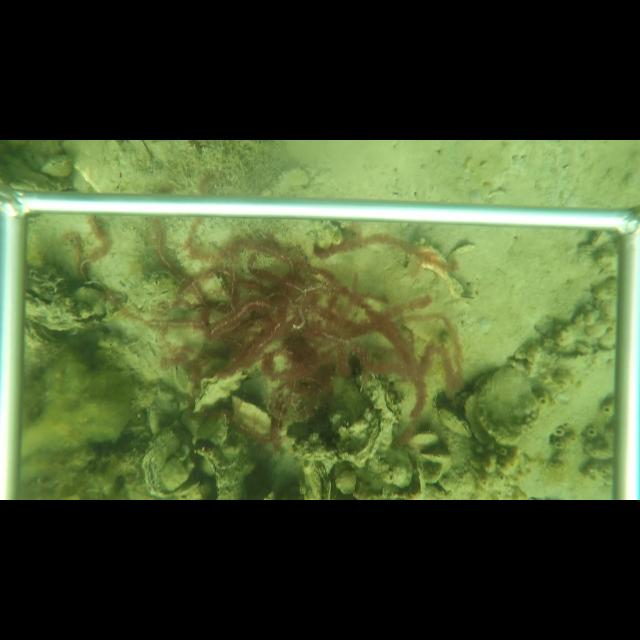Oyster-Closed: (476, 367, 543, 448), (142, 423, 202, 498), (337, 412, 385, 468), (359, 371, 405, 421), (194, 370, 251, 409), (230, 394, 274, 435), (439, 409, 473, 438), (38, 152, 73, 177), (145, 403, 160, 435)
